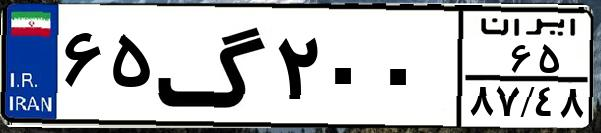0: (385, 28, 445, 110), (330, 28, 385, 110)
2: (270, 28, 330, 110)
4: (535, 70, 560, 125)
5: (110, 28, 156, 98), (537, 27, 568, 80)
6: (57, 26, 110, 100), (508, 27, 537, 80)
7: (495, 70, 520, 125)
8: (560, 70, 590, 125), (470, 70, 495, 125)
گ: (156, 12, 270, 120)
